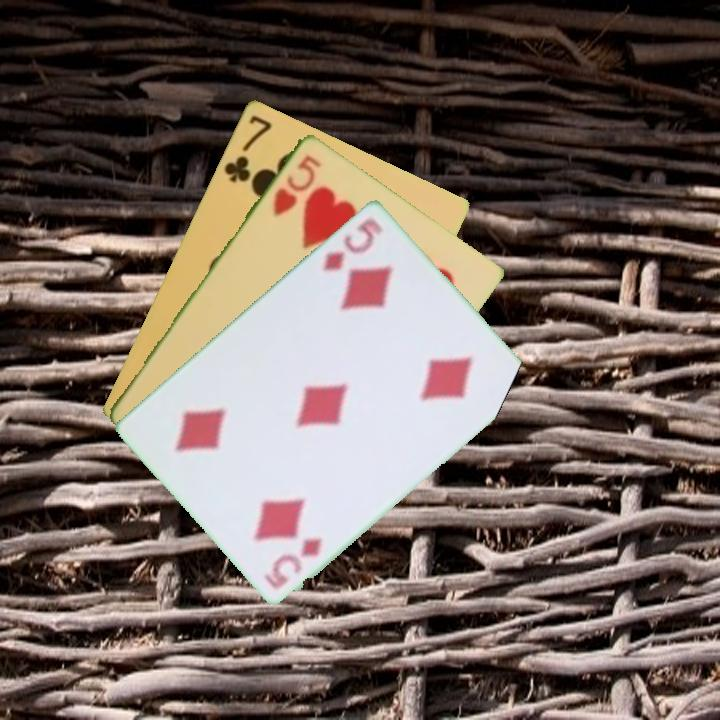5d: (318, 214, 386, 274), (268, 533, 326, 584)
5h: (269, 151, 325, 219)
7c: (220, 111, 275, 186)
